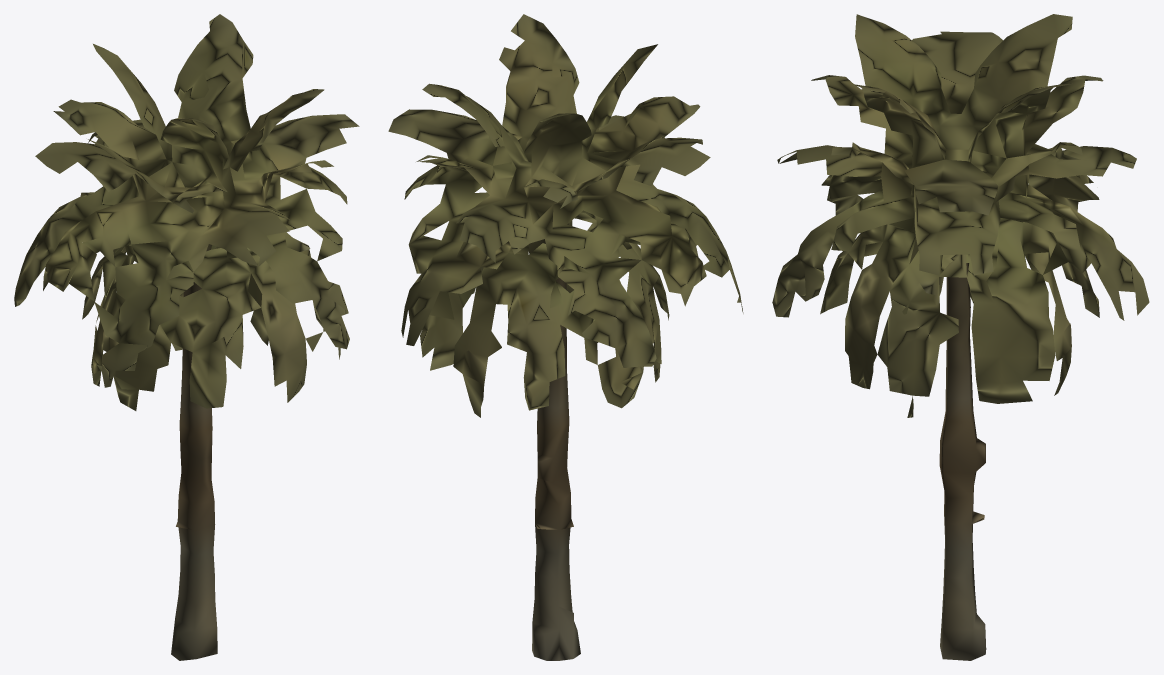
File: palme.glb
The picture shows the model from 3 angles, left to right: view 1: azimuth 30°, elevation 25°; view 2: azimuth 150°, elevation 25°; view 3: azimuth 270°, elevation 25°; orthographic projection. The views are drawn at different scales.
Size of the model in its own units: 1.01 by 1.87 by 1.04.
